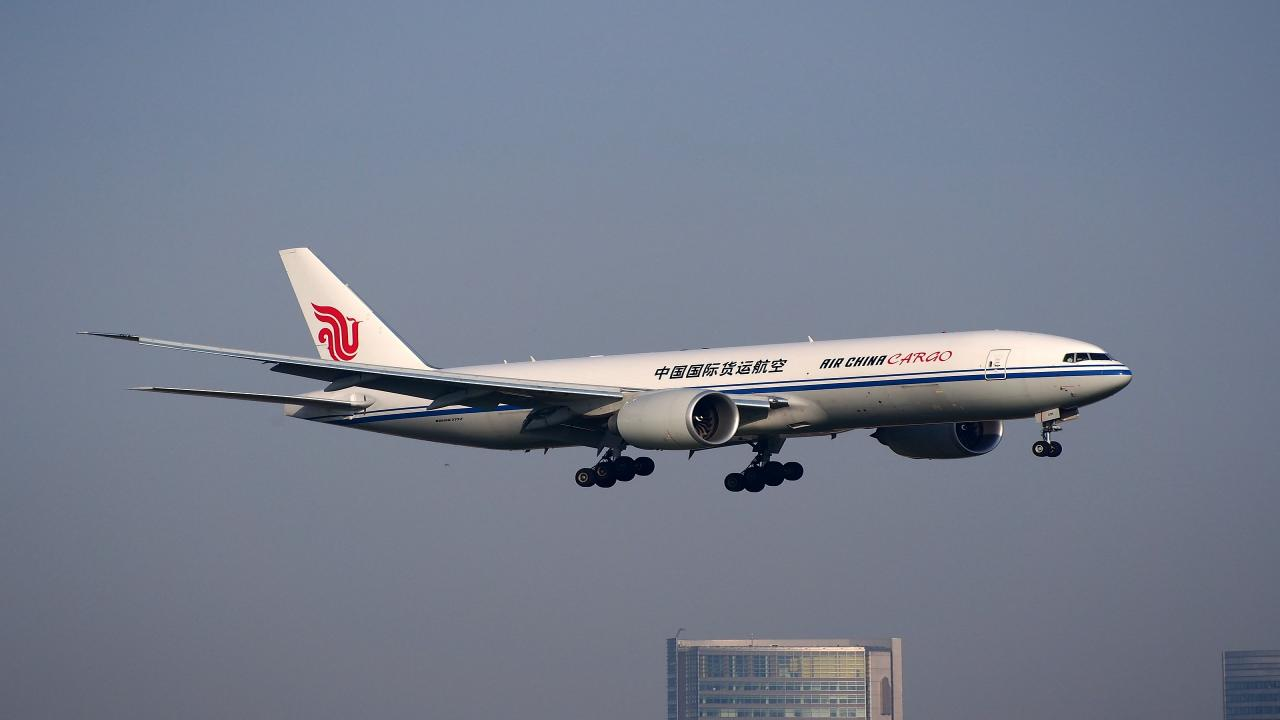Airplane: (61, 233, 1149, 514)
